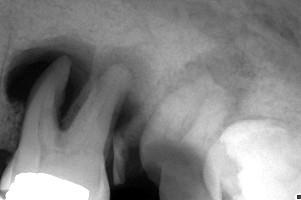Dental Caries: (4, 35, 153, 120)
Endo-Periodontal Lesion: (107, 92, 141, 137)
Furcation Involvement: (166, 44, 266, 126)
